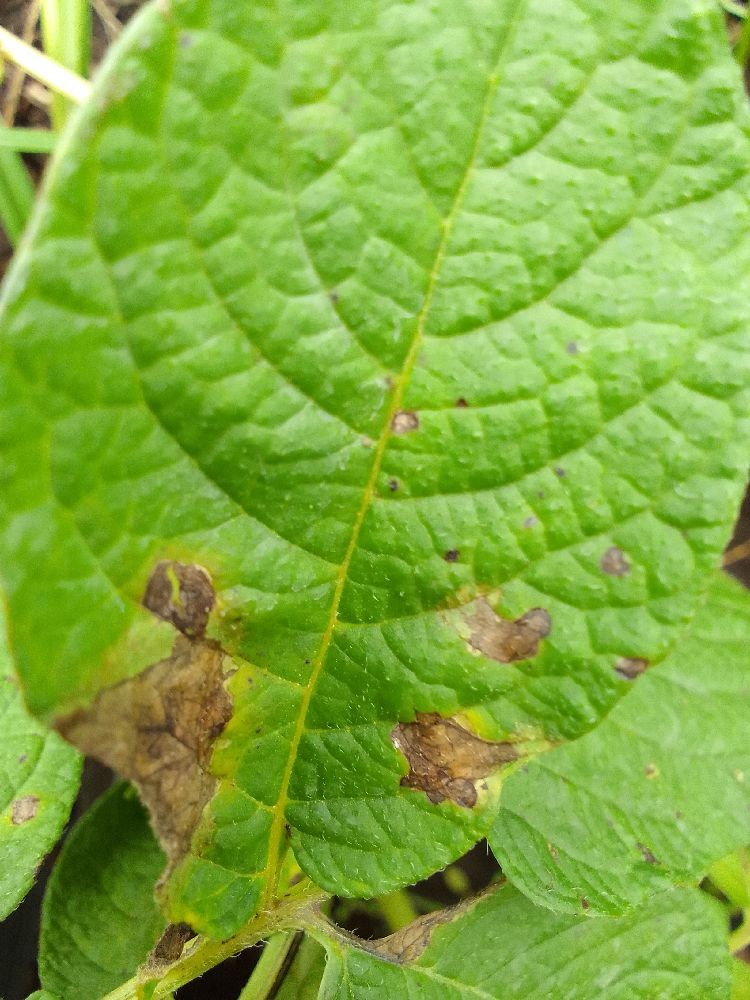late_blight: (36, 541, 253, 886), (269, 814, 532, 988), (376, 695, 534, 823), (0, 41, 60, 139)
